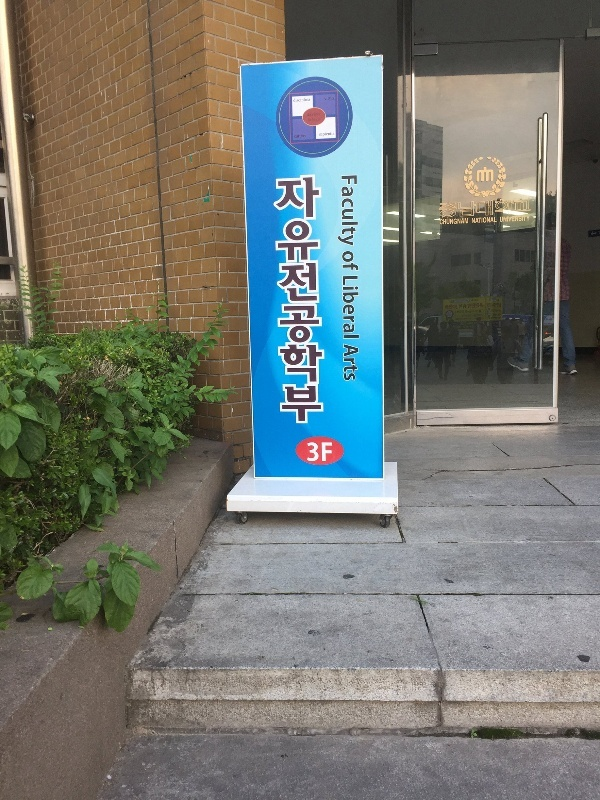text: (273, 174, 288, 429), (289, 174, 304, 429), (305, 174, 320, 429), (321, 174, 325, 429), (341, 174, 352, 249), (342, 273, 352, 344), (353, 273, 360, 344), (343, 343, 352, 386), (353, 174, 358, 249), (449, 298, 464, 323), (465, 298, 480, 323), (481, 298, 496, 323), (449, 197, 464, 220), (465, 197, 480, 220), (481, 197, 496, 220), (497, 197, 512, 220), (513, 197, 528, 220), (306, 441, 320, 465), (321, 441, 334, 465), (353, 343, 360, 386), (342, 250, 352, 273), (439, 197, 448, 220), (449, 217, 464, 227), (513, 214, 528, 224), (481, 217, 497, 226), (353, 250, 359, 273), (499, 214, 512, 224), (497, 298, 502, 323), (321, 132, 335, 139), (439, 217, 448, 227), (471, 217, 480, 226), (324, 96, 336, 102), (308, 112, 320, 118), (293, 98, 304, 104), (294, 134, 304, 140), (308, 117, 320, 122), (446, 298, 448, 323), (529, 197, 531, 220), (465, 217, 469, 227), (305, 98, 311, 104), (529, 214, 531, 224), (319, 132, 320, 139), (305, 134, 306, 140), (321, 112, 322, 118)
